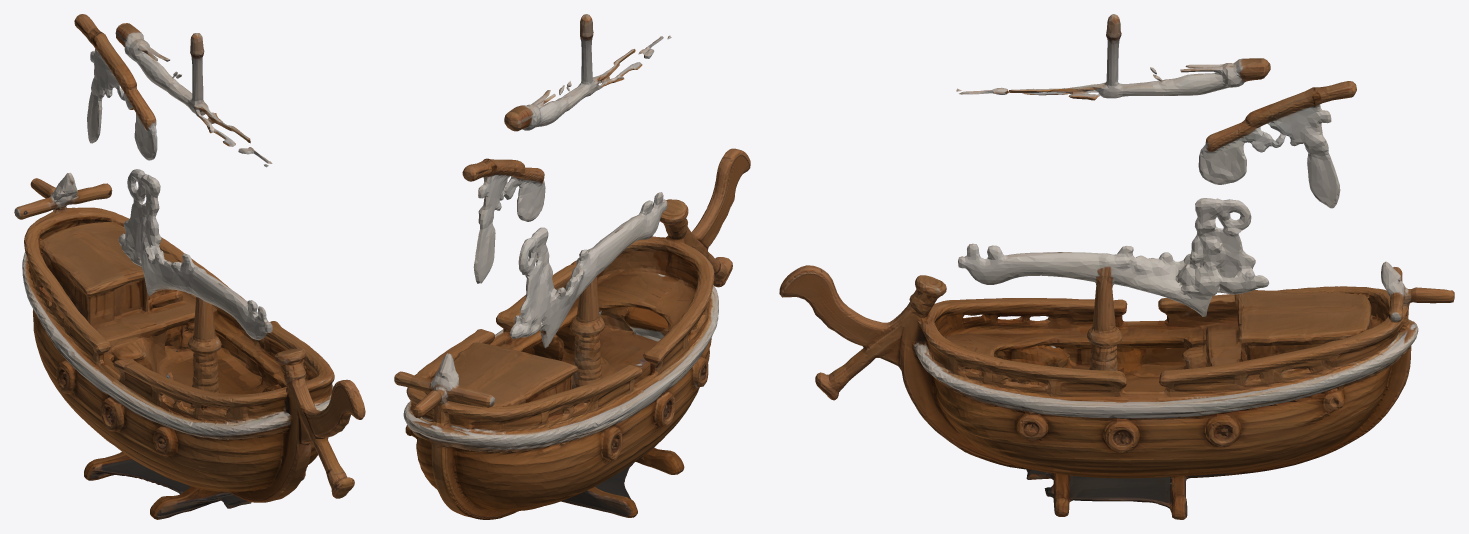
The model's file is airship.glb.
3 renders of one model, left to right at view 1: azimuth 30°, elevation 25°; view 2: azimuth 150°, elevation 25°; view 3: azimuth 270°, elevation 25°, orthographic. The views are drawn at different scales.
Visible parts, largest first — view 1: textured_mesh.obj; view 2: textured_mesh.obj; view 3: textured_mesh.obj.
Part boxes in pixels (left/top/right/bottom): textured_mesh.obj: left=14, top=14, right=365, bottom=519; textured_mesh.obj: left=394, top=14, right=750, bottom=519; textured_mesh.obj: left=779, top=14, right=1454, bottom=519.
Size of the model in its own units: 0.6089 by 1.46 by 1.91.
1 material, 1 textured.
